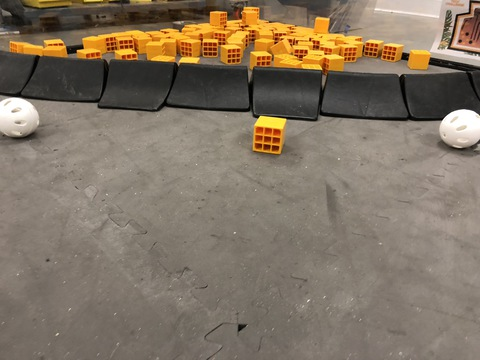ball: (433, 106, 480, 157), (1, 93, 46, 144)
block: (253, 113, 289, 160)
